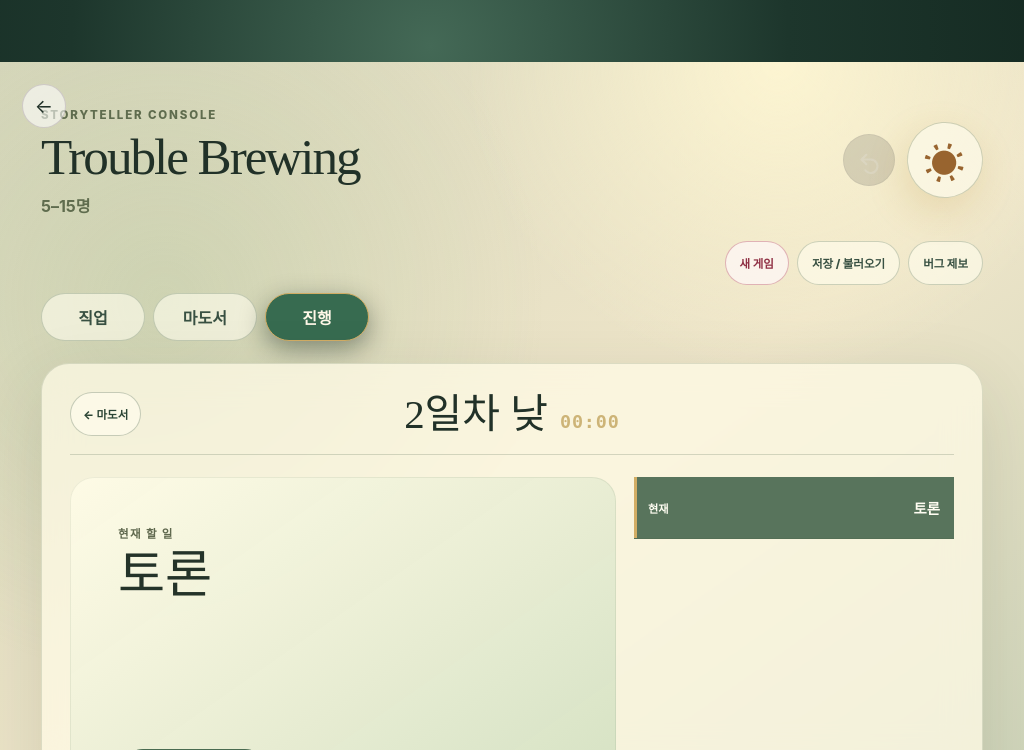
it: ClocktowerApp live-play integration › uses the live Trouble Brewing day theme for the in-app bug report
expect the picture named "낮" is shown: met, box [897,112,993,208]
What coordinates should you click on to do the following:
click the button "버그 제보"
I would click on:
 (946, 263)
Its box is [908,241,983,285].
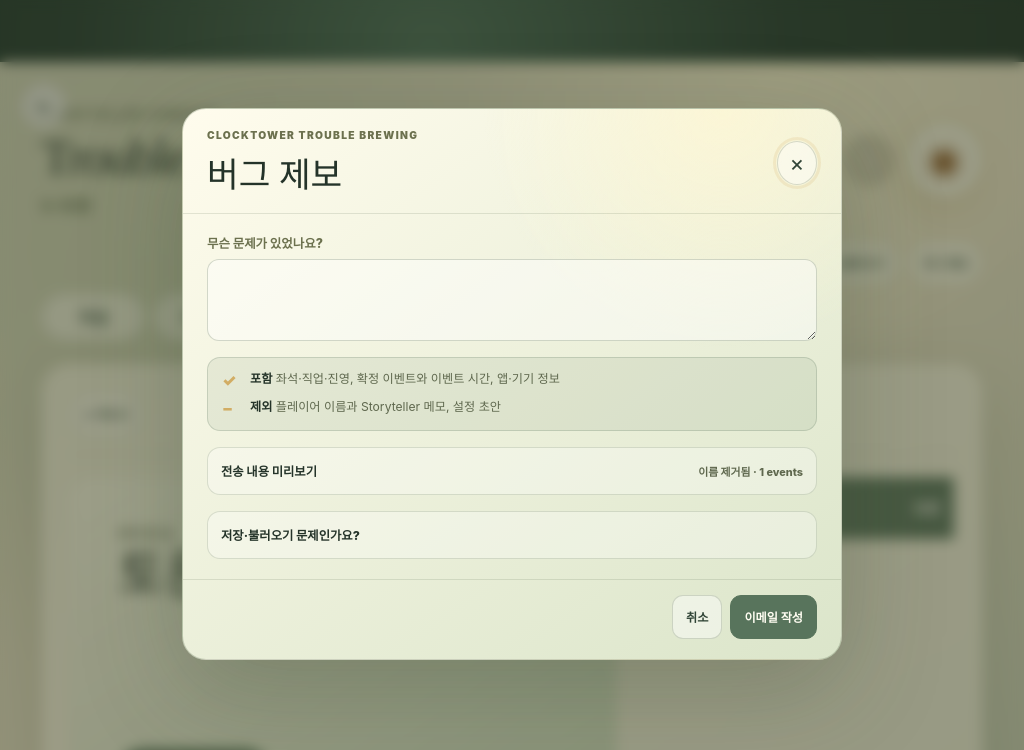
expect the dialog "버그 제보" is shown: met, box [182,108,842,660]
